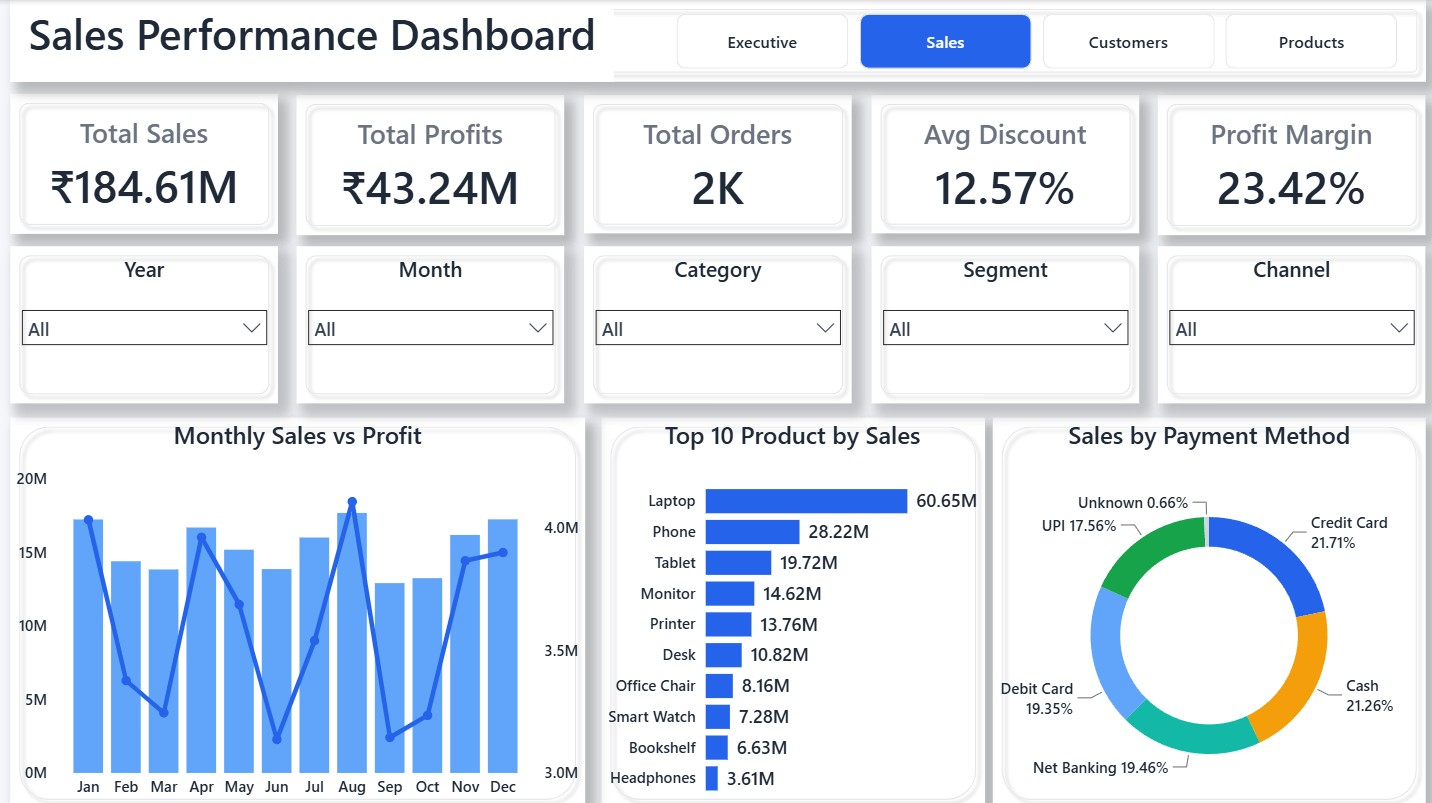

The page's visual inventory and layout, read from the dashboard file:
{"tool":"powerbi","page":{"name":"Sales ","canvas":[1280,720],"ordinal":1},"visuals":[{"type":"shape","box":[9.6,83.7,238.8,124.9],"z":0},{"type":"cardVisual","fields":{"Data":["MEASURE.total sales"]},"box":[9.6,85.1,238.8,123.5],"z":1000},{"type":"shape","box":[264.8,85.1,238.8,124.9],"z":2000},{"type":"shape","box":[521.4,85.1,238.8,123.5],"z":3000},{"type":"shape","box":[776.7,85.1,238.8,123.5],"z":4000},{"type":"shape","box":[1031.9,85.1,238.8,124.9],"z":5000},{"type":"cardVisual","fields":{"Data":["MEASURE.total profits"]},"box":[264.8,85.1,238.8,124.9],"z":6000},{"type":"cardVisual","fields":{"Data":["MEASURE.total orders"]},"box":[521.4,85.1,238.8,124.9],"z":7000},{"type":"cardVisual","fields":{"Data":["MEASURE.average discount"]},"box":[776.7,85.1,238.8,124.9],"z":8000},{"type":"cardVisual","fields":{"Data":["MEASURE.profit margin %"]},"box":[1031.9,85.1,238.8,124.9],"z":9000},{"type":"shape","box":[9.6,0,1261.1,72.7],"z":10000},{"type":"shape","box":[536.5,371.9,341.7,348.5],"z":11000},{"type":"shape","box":[885.1,371.9,385.6,348.5],"z":12000},{"type":"shape","box":[9.6,371.9,511.8,348.5],"z":13000},{"type":"clusteredBarChart","title":"Top 10 Product by Sales","fields":{"Category":["DIM_PRODUCT.PRODUCT_NAME"],"Y":["MEASURE.total sales"]},"box":[536.5,371.9,340.3,348.5],"z":14000},{"type":"donutChart","title":"Sales by Payment Method","fields":{"Y":["MEASURE.total sales"],"Category":["FACT_SALES.PAYMENT_METHOD"]},"box":[885.1,371.9,385.6,348.5],"z":15000},{"type":"shape","box":[9.6,219.6,238.8,140],"z":16000},{"type":"slicer","title":"Year","fields":{"Values":["DIM_DATE.YEAR"]},"box":[9.6,219.6,238.8,140],"z":17000},{"type":"textbox","box":[9.6,0,537.9,72.7],"z":18000},{"type":"shape","box":[264.8,219.6,238.8,140],"z":19000},{"type":"shape","box":[521.4,219.6,238.8,140],"z":20000},{"type":"shape","box":[776.7,219.6,238.8,140],"z":21000},{"type":"shape","box":[1031.9,219.6,238.8,140],"z":22000},{"type":"slicer","title":"Month","fields":{"Values":["DIM_DATE.MONTH_NUMBER"]},"box":[264.8,219.6,238.8,140],"z":23000},{"type":"slicer","title":"Category","fields":{"Values":["DIM_PRODUCT.CATEGORY"]},"box":[521.4,219.6,238.8,140],"z":24000},{"type":"slicer","title":"Segment","fields":{"Values":["DIM_CUSTOMER.CUSTOMER_SEGMENT"]},"box":[776.7,219.6,238.8,140],"z":25000},{"type":"slicer","title":"Channel","fields":{"Values":["FACT_SALES.CHANNEL"]},"box":[1031.9,219.6,238.8,140],"z":26000},{"type":"lineClusteredColumnComboChart","title":"Monthly Sales vs Profit","fields":{"Category":["DIM_DATE.MONTH_NAME"],"Y":["MEASURE.total sales"],"Y2":["MEASURE.total profits"]},"box":[9.6,371.9,511.8,348.5],"z":27000},{"type":"pageNavigator","box":[603.8,12.3,643.6,49.4],"z":28000}]}

Visuals, with their boxes in screenshot pixels (x1, y1, x2, y2), scaled from the page's 1280x720 canvas onto the 1432x803 screenshot:
shape: locate(11, 93, 278, 233)
cardVisual - MEASURE.total sales: locate(11, 95, 278, 233)
shape: locate(296, 95, 563, 234)
shape: locate(583, 95, 850, 233)
shape: locate(869, 95, 1136, 233)
shape: locate(1154, 95, 1422, 234)
cardVisual - MEASURE.total profits: locate(296, 95, 563, 234)
cardVisual - MEASURE.total orders: locate(583, 95, 850, 234)
cardVisual - MEASURE.average discount: locate(869, 95, 1136, 234)
cardVisual - MEASURE.profit margin %: locate(1154, 95, 1422, 234)
shape: locate(11, 0, 1422, 81)
shape: locate(600, 415, 982, 802)
shape: locate(990, 415, 1422, 802)
shape: locate(11, 415, 583, 802)
"Top 10 Product by Sales" clusteredBarChart: locate(600, 415, 981, 802)
"Sales by Payment Method" donutChart: locate(990, 415, 1422, 802)
shape: locate(11, 245, 278, 401)
"Year" slicer: locate(11, 245, 278, 401)
textbox: locate(11, 0, 613, 81)
shape: locate(296, 245, 563, 401)
shape: locate(583, 245, 850, 401)
shape: locate(869, 245, 1136, 401)
shape: locate(1154, 245, 1422, 401)
"Month" slicer: locate(296, 245, 563, 401)
"Category" slicer: locate(583, 245, 850, 401)
"Segment" slicer: locate(869, 245, 1136, 401)
"Channel" slicer: locate(1154, 245, 1422, 401)
"Monthly Sales vs Profit" lineClusteredColumnComboChart: locate(11, 415, 583, 802)
pageNavigator: locate(676, 14, 1396, 69)
